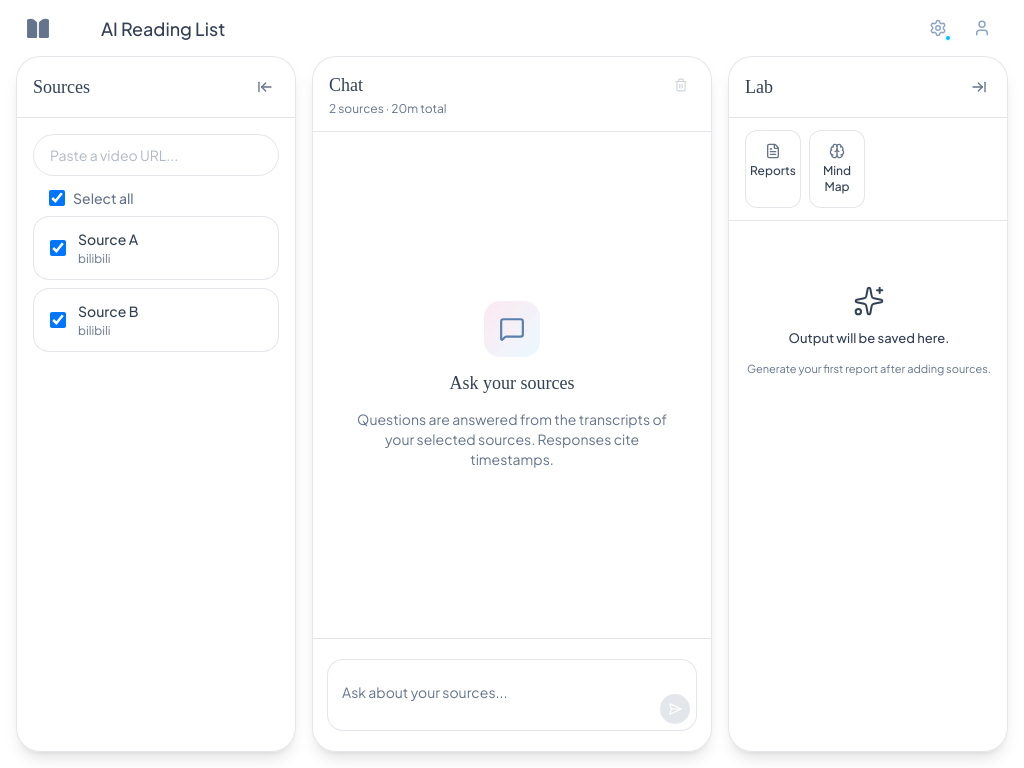
Test: list detail page › a late-rejecting load for a superseded source leaves the current source's content intact
Check: the heading "Sources" is shown, box top-left (33, 77), bottom-right (90, 97)
# Open A (content pending), close back to the list, then open B (resolves).
Click the button with aria-label "open source a" at x=150, y=248, box top-left (78, 229), bottom-right (222, 267)
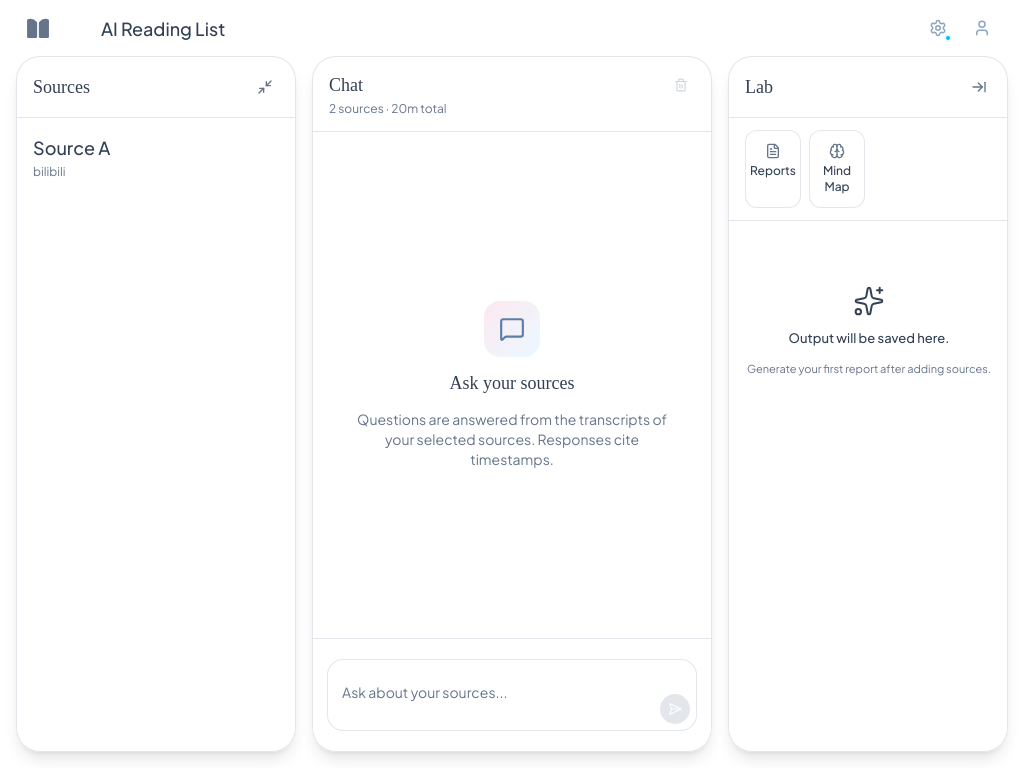
Click the button named "close viewer" at x=265, y=87, box top-left (251, 73), bottom-right (279, 101)
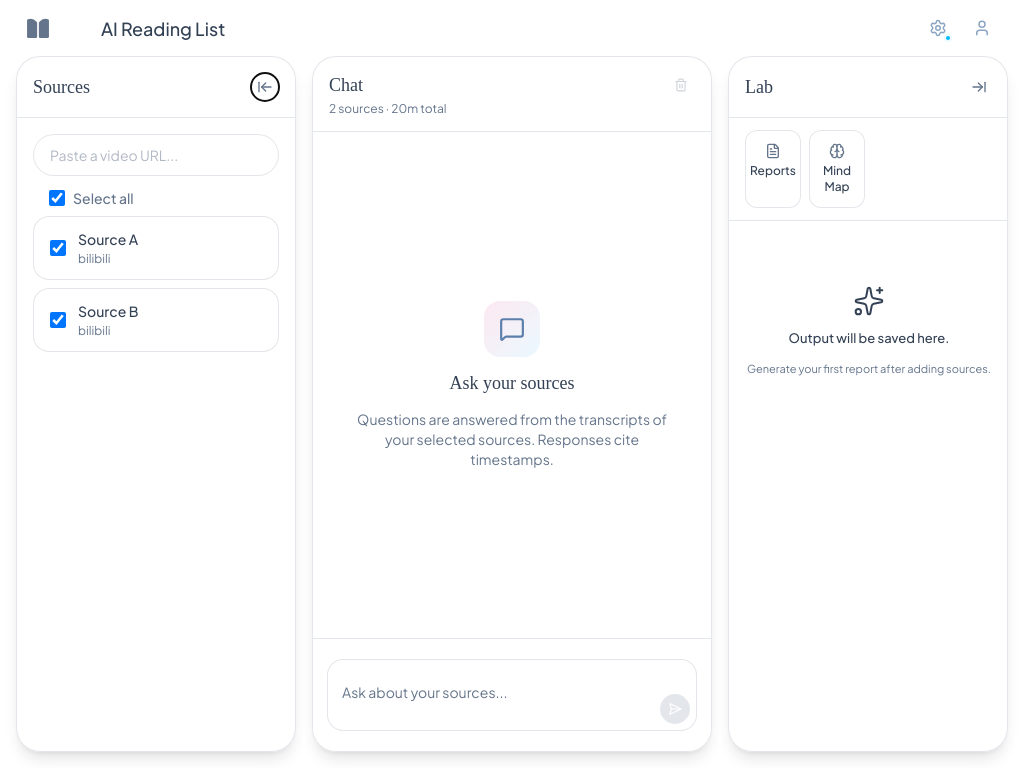
Click the button with aria-label "open source b" at x=150, y=320, box top-left (78, 301), bottom-right (222, 339)
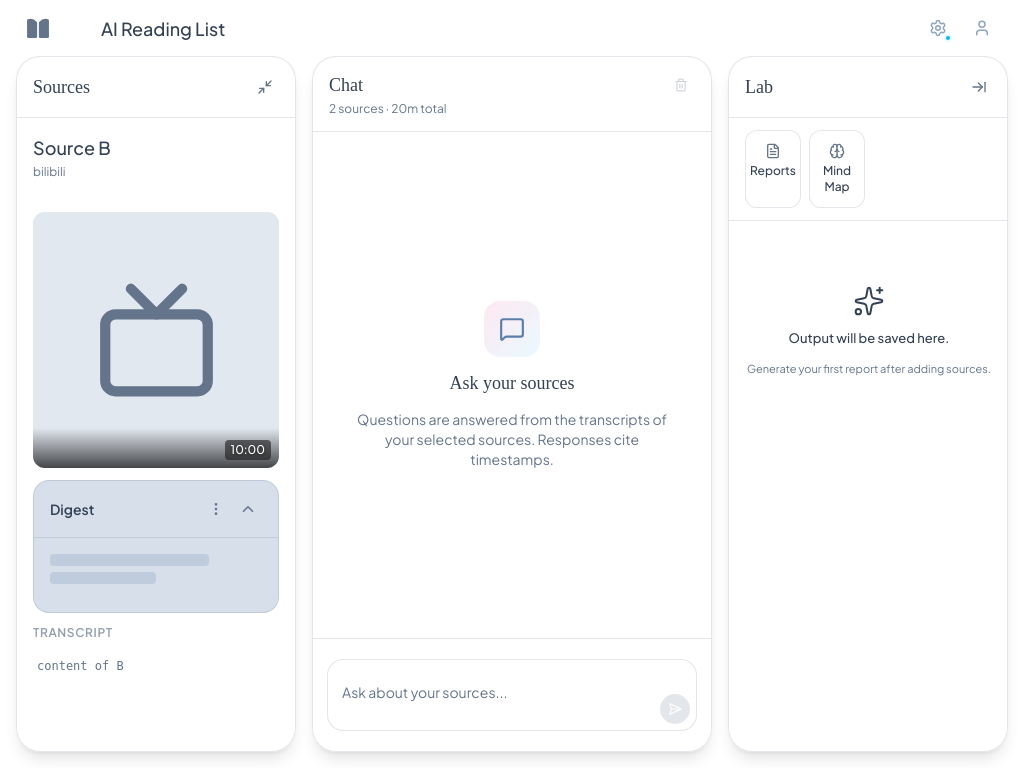
Check: the text "content of B" is shown, box top-left (37, 659), bottom-right (124, 673)
